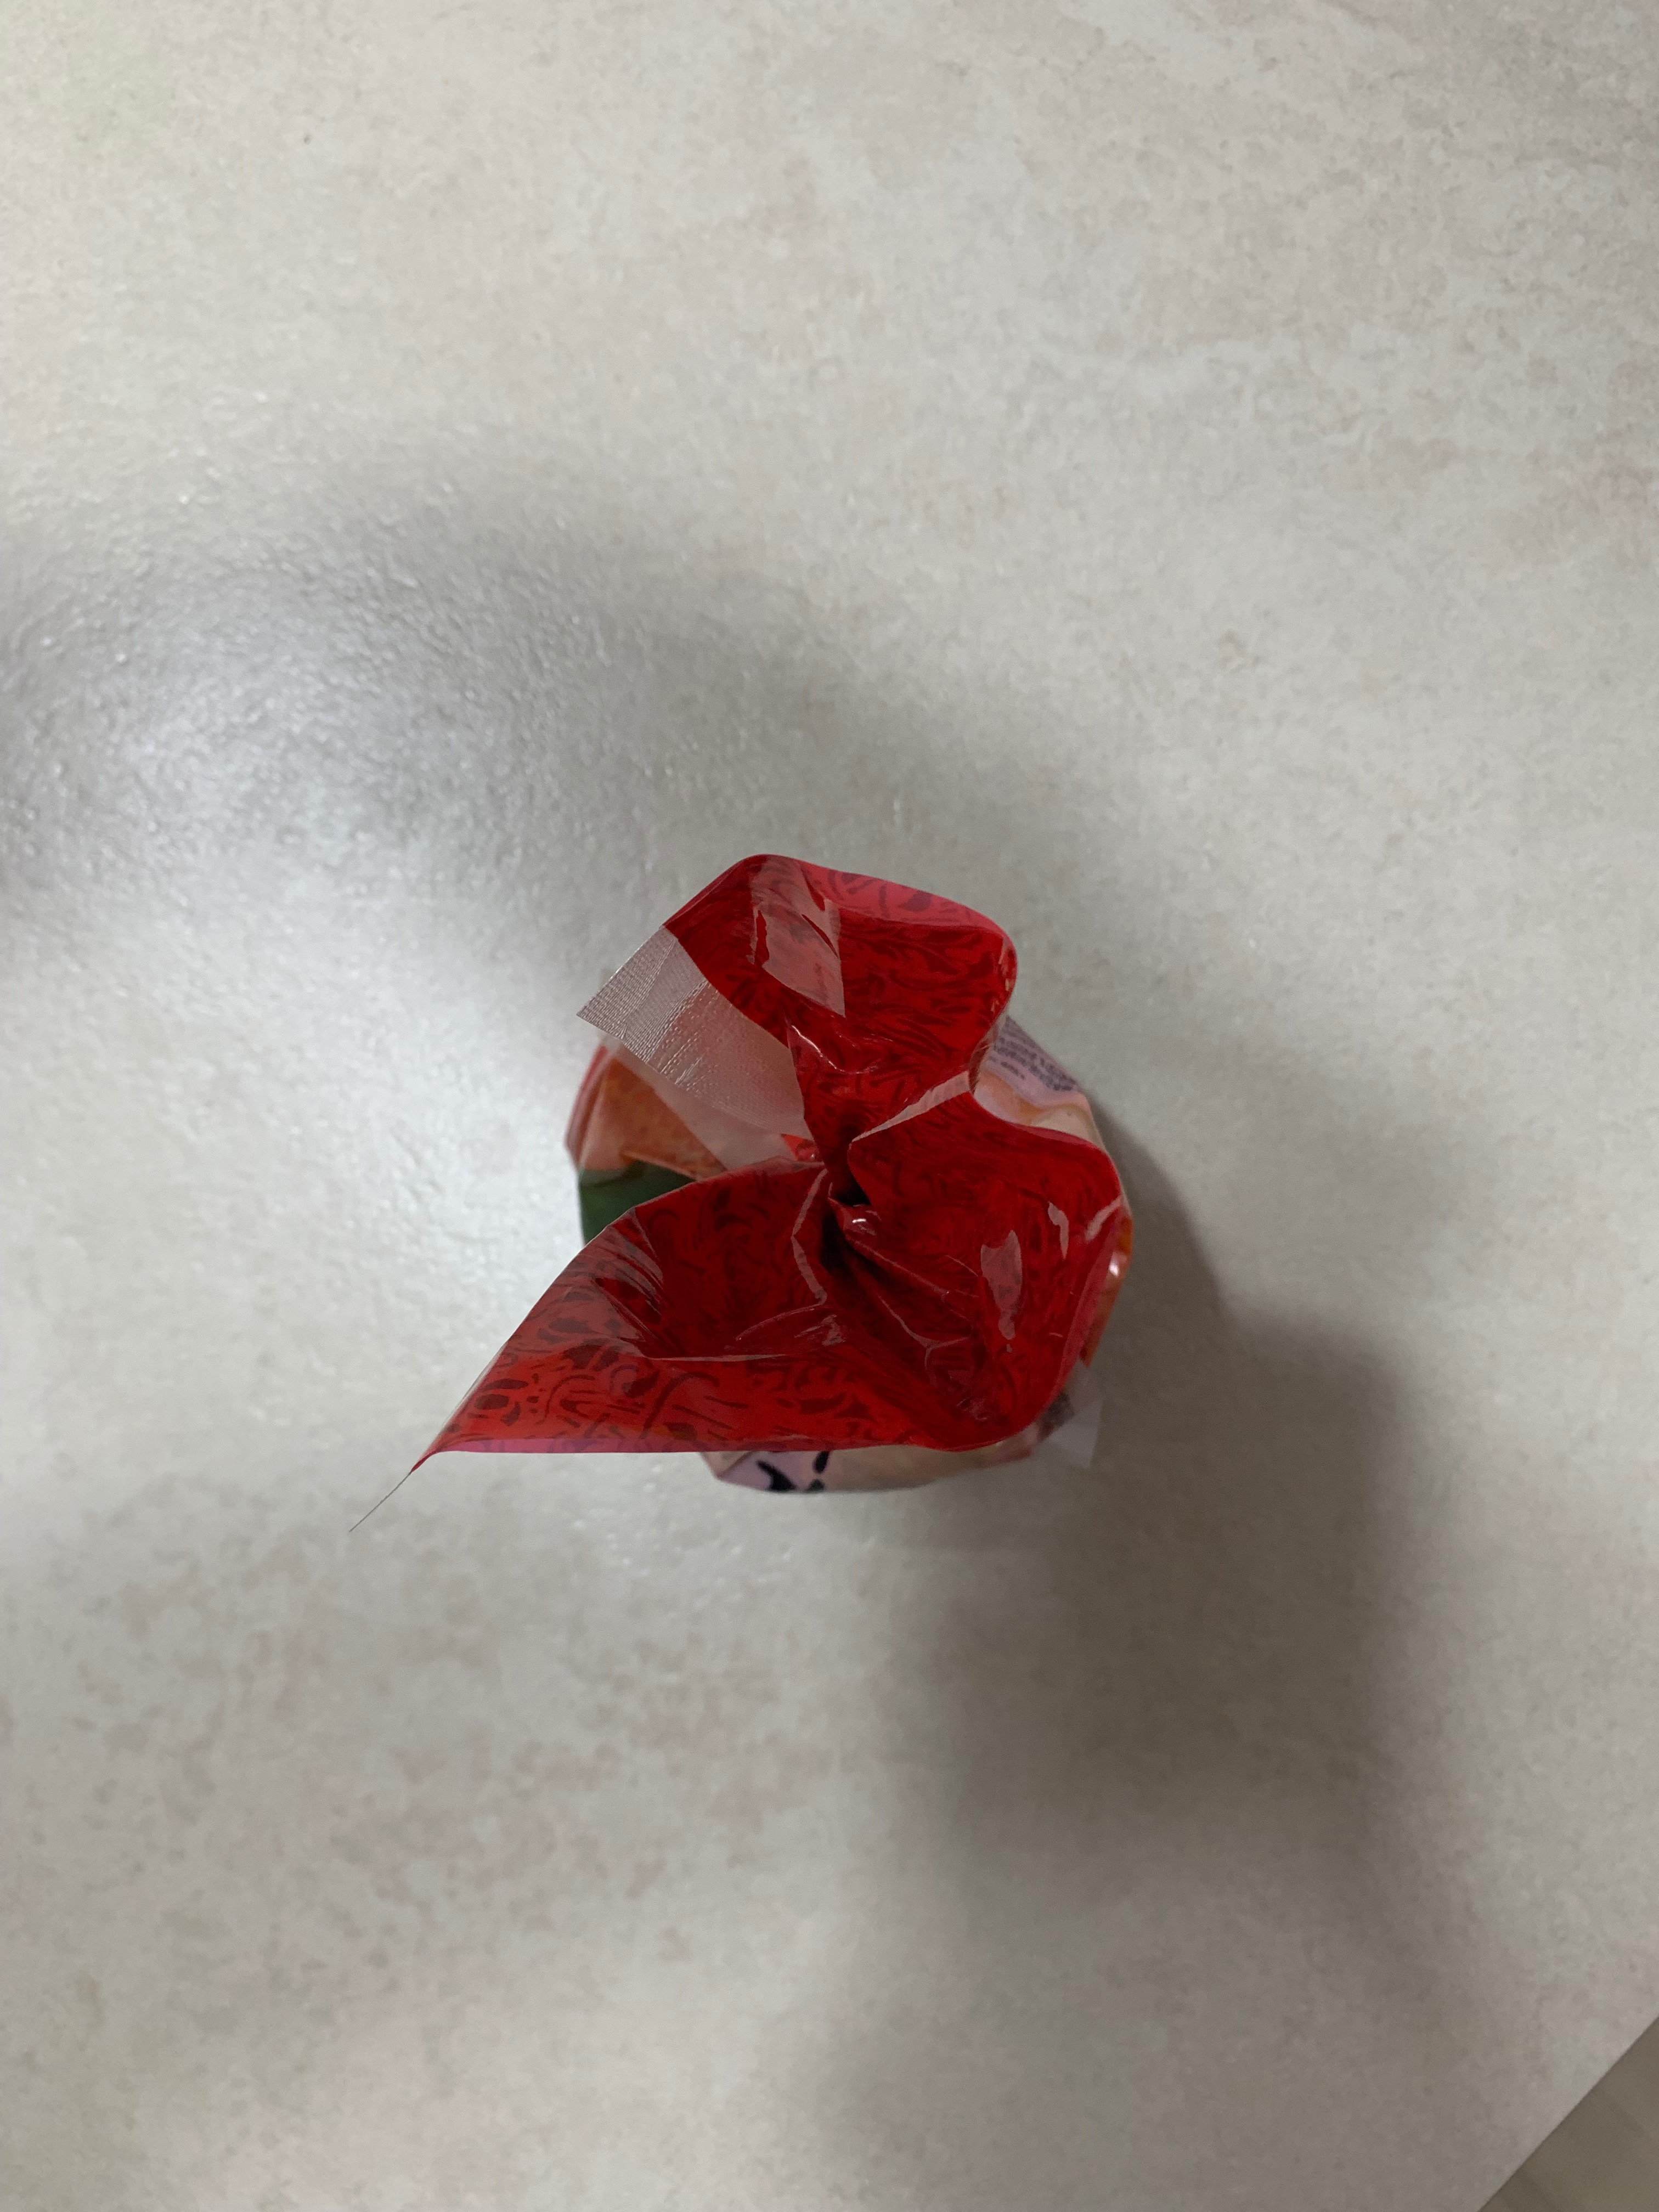kimchi: (448, 853, 1134, 1498)
